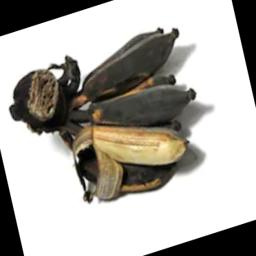Banana Rotten: (8, 26, 230, 229)
